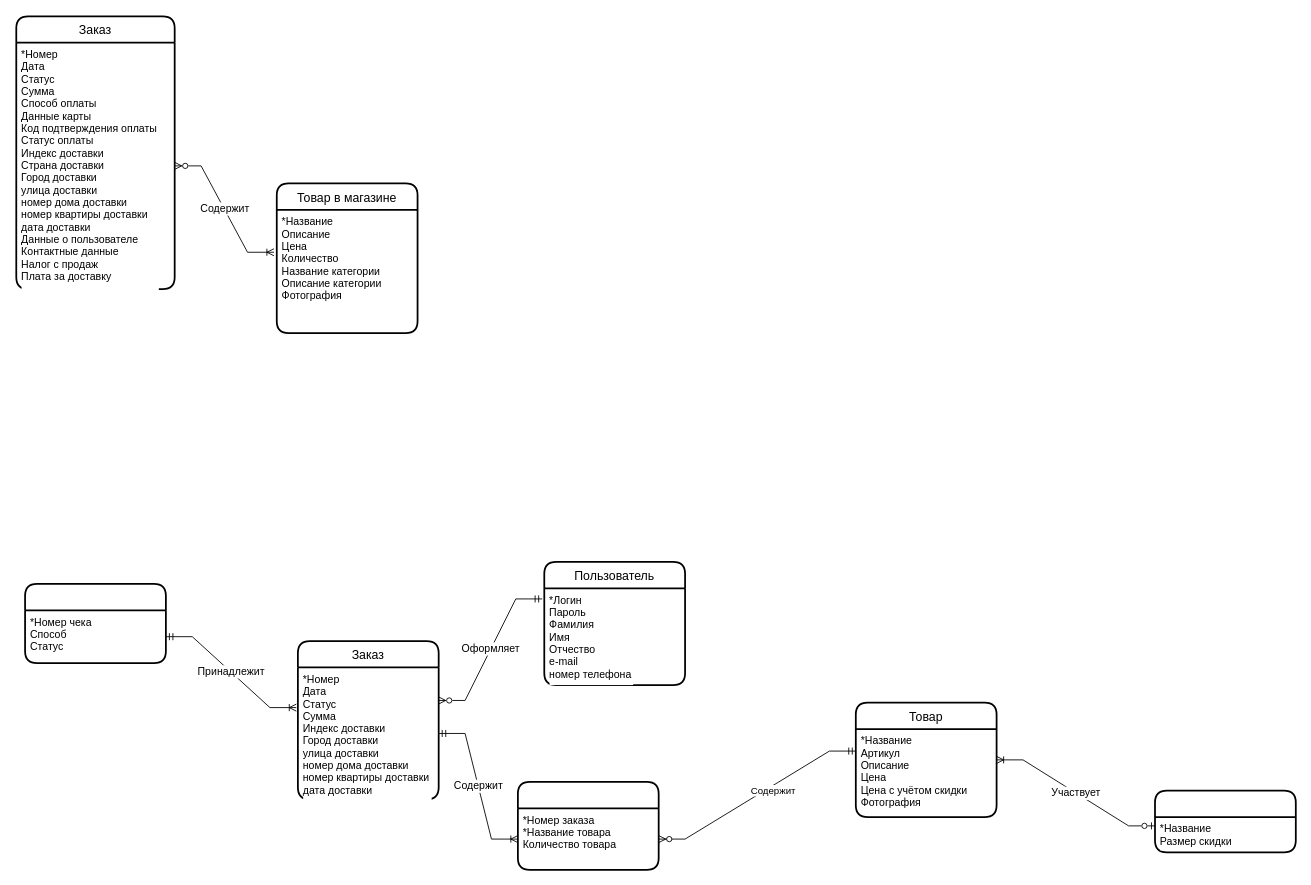
This 1311x885 diagram has some shape labels left out. The box of each missing label's shape, as (x1, y1, x2, y2) in pixels:
Акция: (1154, 789, 1296, 853)
Оплата: (24, 583, 166, 664)
Товар в заказе: (517, 781, 659, 870)
